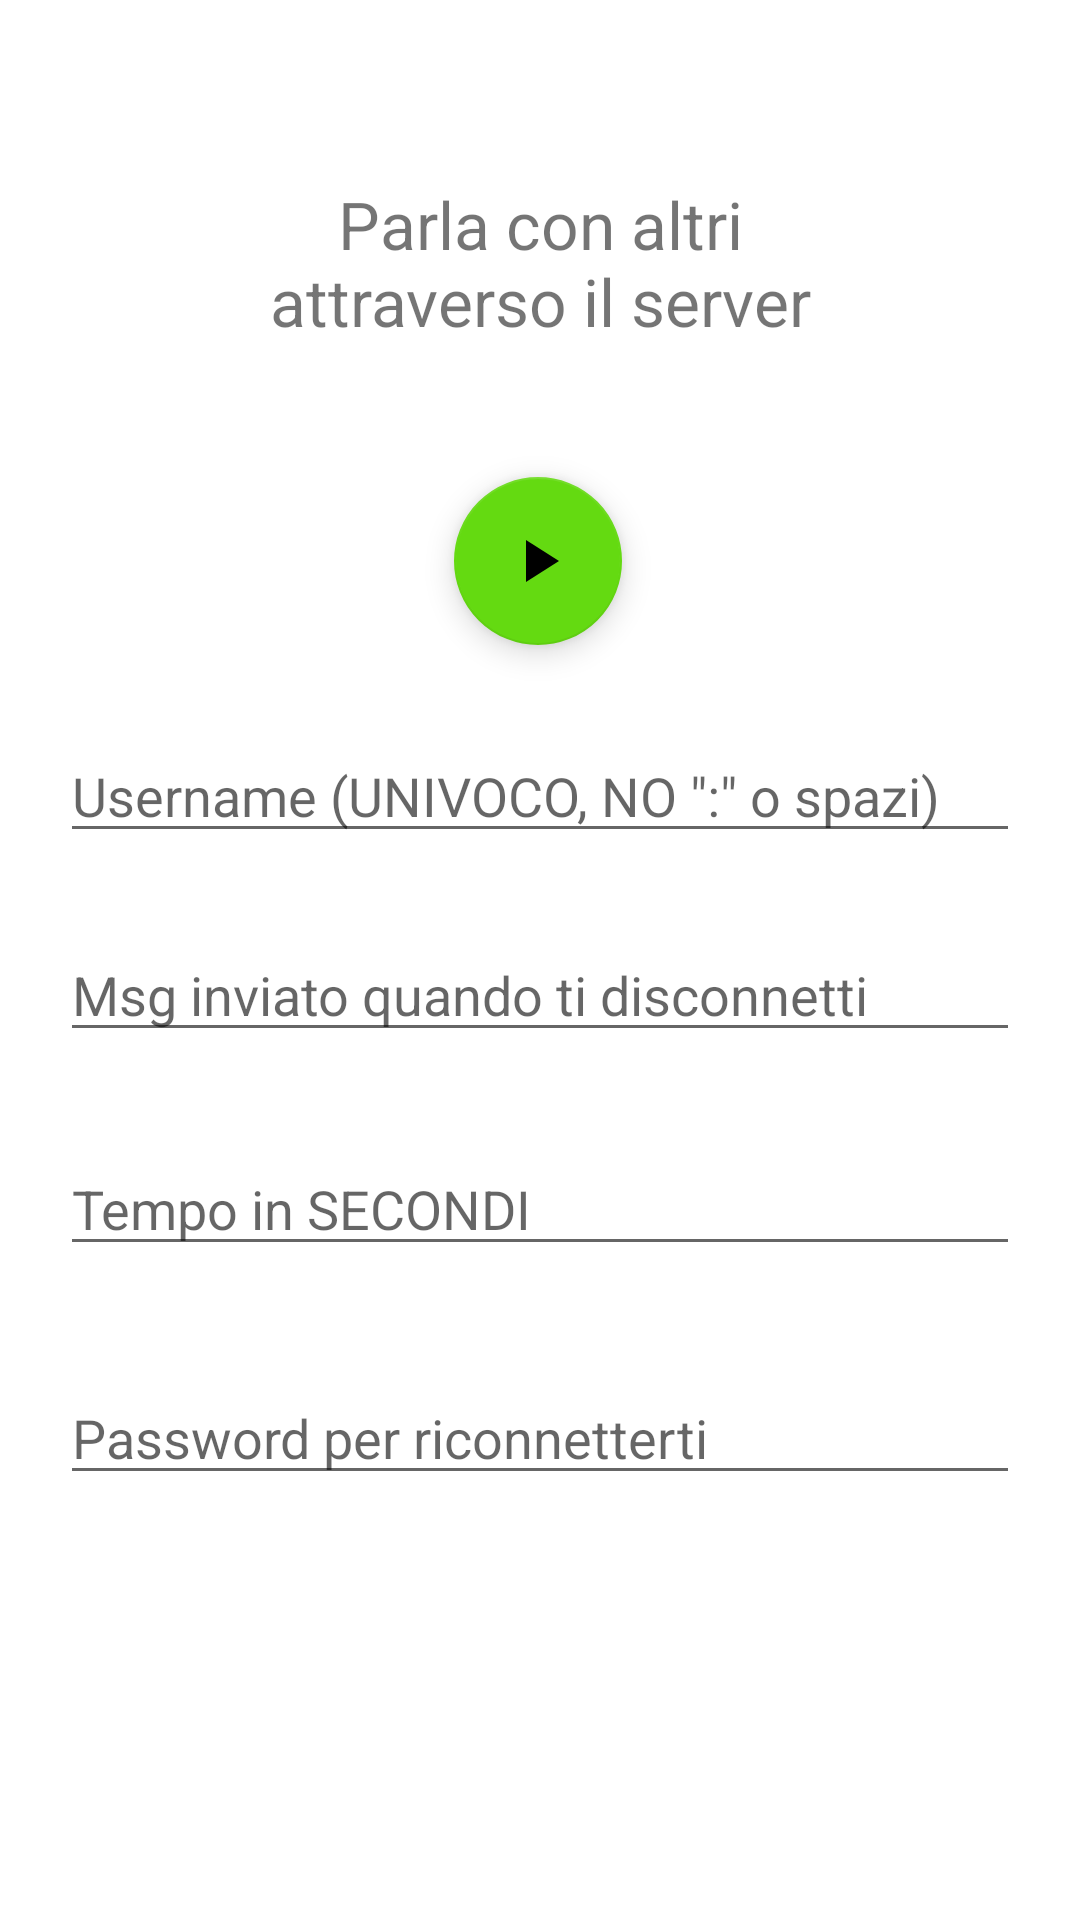

Named icons in this screenshot (1080x1920) and their bounding boxes, (x1, y1, x2, y2):
play: (454, 477, 622, 645)
